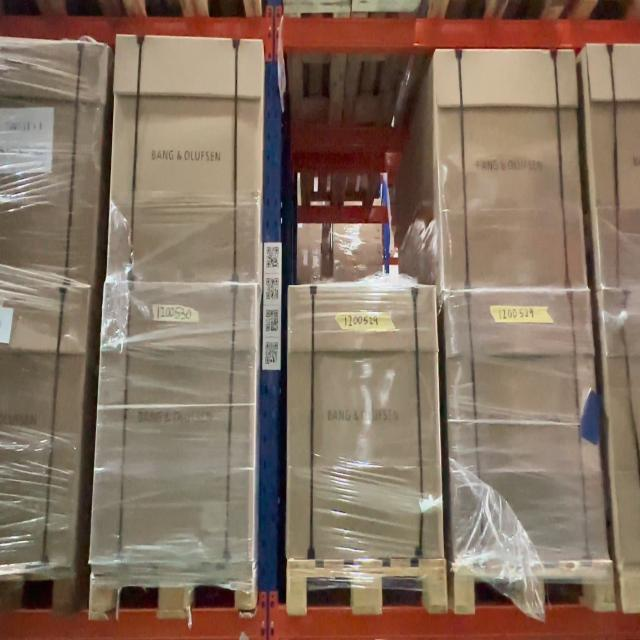box: (88, 283, 256, 565), (287, 285, 443, 563), (447, 297, 608, 553), (438, 46, 590, 293), (108, 37, 260, 282)
